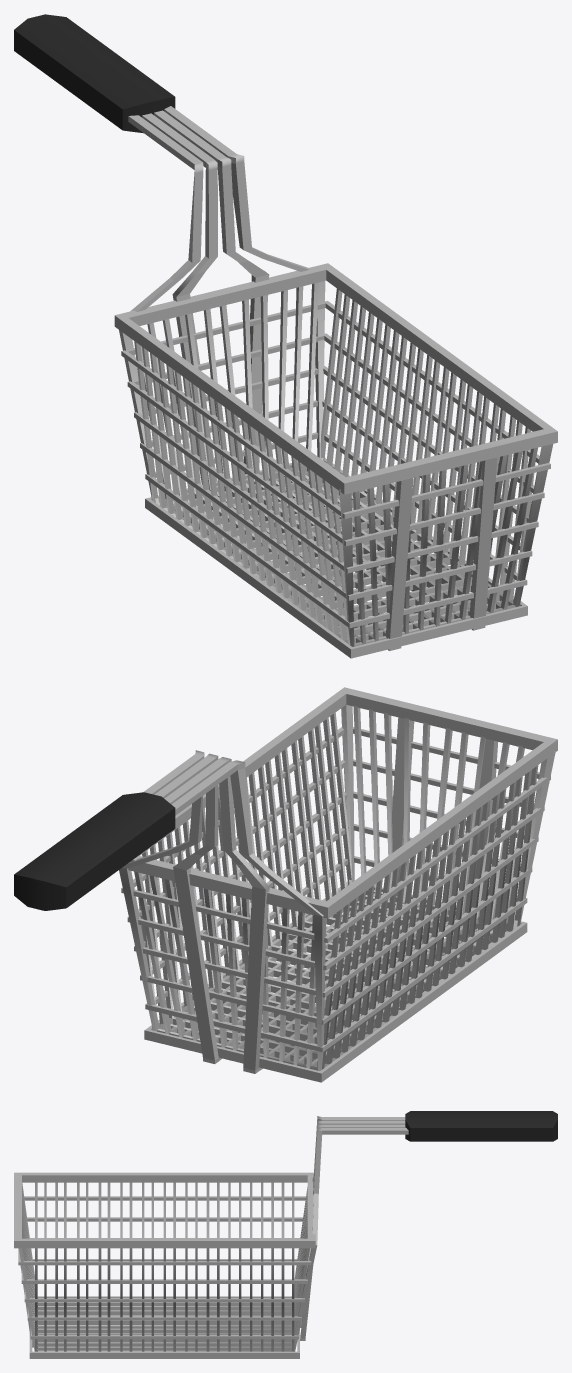
File: baskeshorter.fbx
3 renders of one model, top to bottom at view 1: azimuth 30°, elevation 25°; view 2: azimuth 150°, elevation 25°; view 3: azimuth 270°, elevation 25°, orthographic. The views are drawn at different scales.
Visible parts, largest first — view 1: fryer3; view 2: fryer3; view 3: fryer3.
Boxes of the visible parts, <box> form: fryer3: <box>14,14,557,658</box>; fryer3: <box>14,687,557,1082</box>; fryer3: <box>14,1111,557,1358</box>.
Bounding box in the file's own units: 0.2472 × 0.3612 × 0.8252.
Materials: 1 (1 with a texture image).
